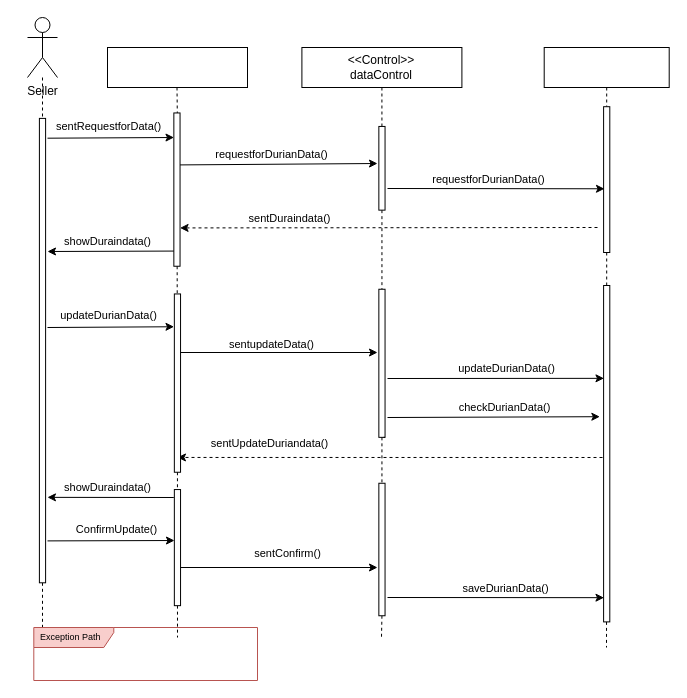
Image size: 687x698. Some labels were removed from this diagram. Here are the shapes that lost their labels. From the top down, the centre of each, then its label:
At pixel 177 67: "<<Boundary>> panelTorecieveData".
At pixel 606 67: "<<Entity>> dataDurian".
